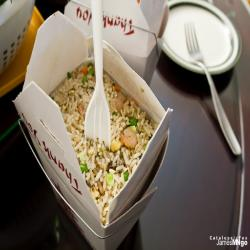rice: (21, 64, 170, 222)
